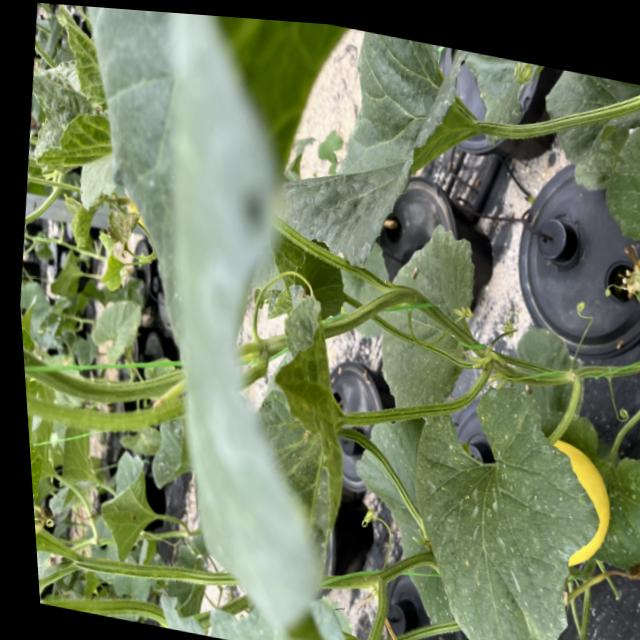CMV: (272, 20, 526, 286)
SLCV: (234, 274, 375, 555), (16, 1, 133, 189)
downy mildew: (383, 364, 621, 640), (543, 411, 640, 576)
powdery mildew: (578, 76, 640, 258)
